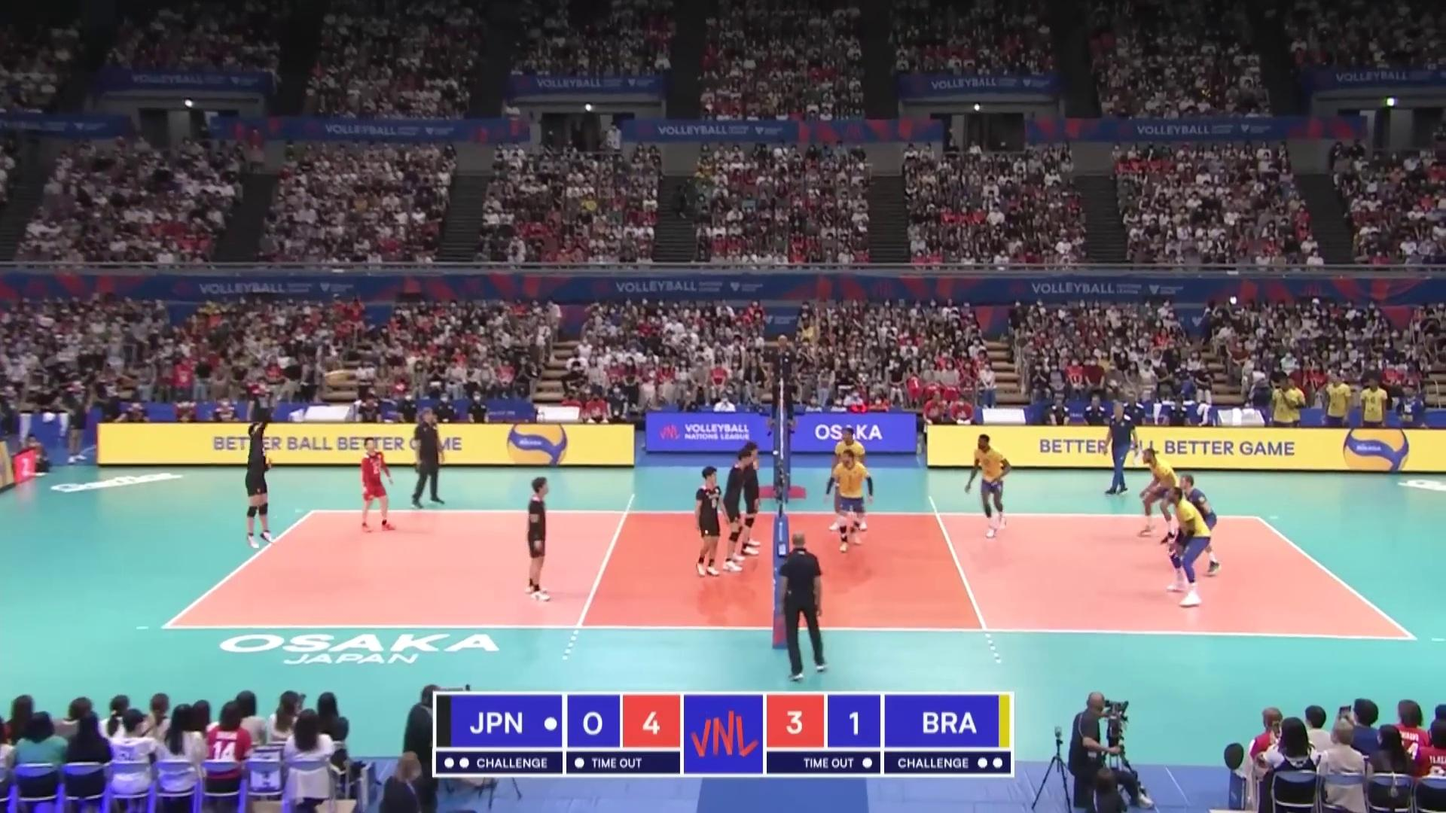player: (963, 433, 1010, 538), (1165, 487, 1205, 609), (1173, 473, 1219, 577), (242, 417, 275, 549), (829, 451, 872, 552), (691, 465, 727, 578), (722, 451, 754, 573), (1140, 447, 1179, 541), (831, 429, 868, 528), (527, 478, 554, 599), (363, 441, 398, 532), (739, 440, 763, 555)
refree: (774, 535, 827, 680), (769, 332, 797, 427)
